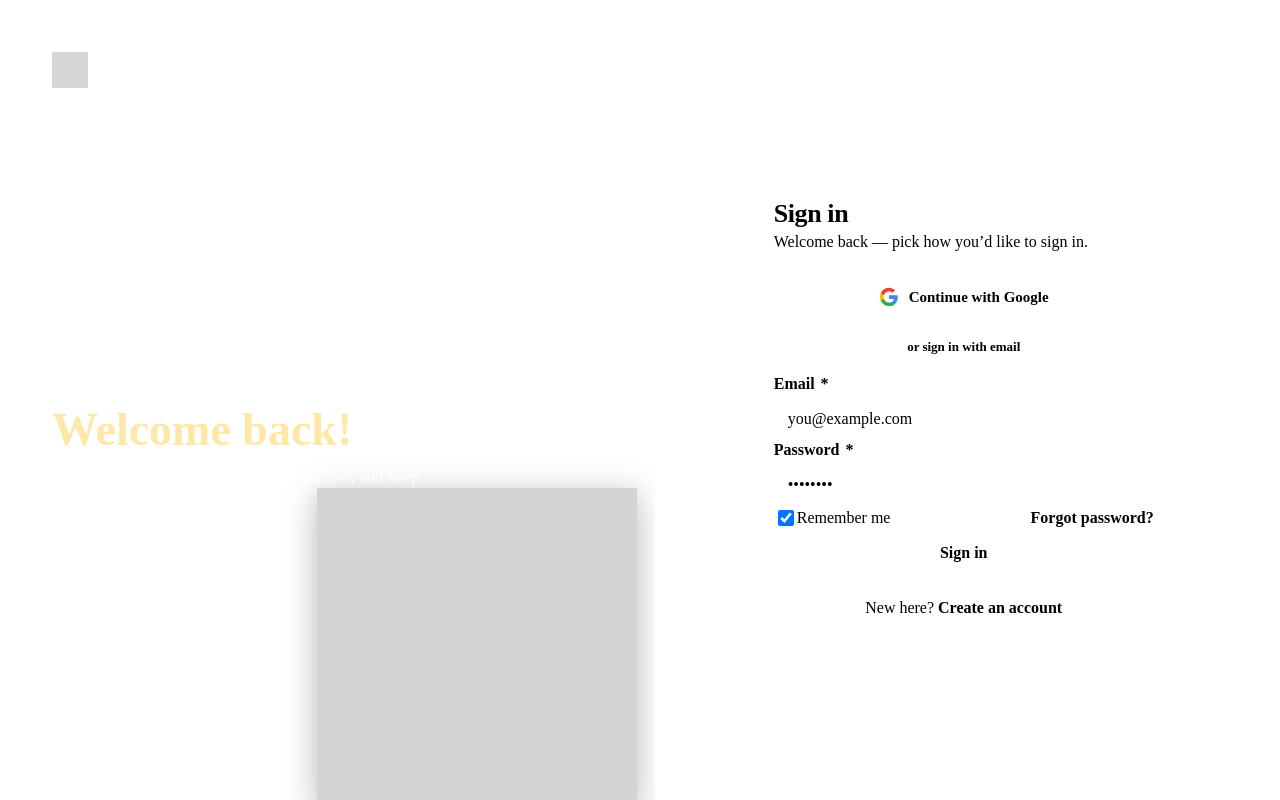
Test: LoginComponent › refuses a password reset without a valid email and prompts for one
Click the link with class "login__reset-link" showing "Forgot password?": (1092, 518) [1031,509,1154,527]
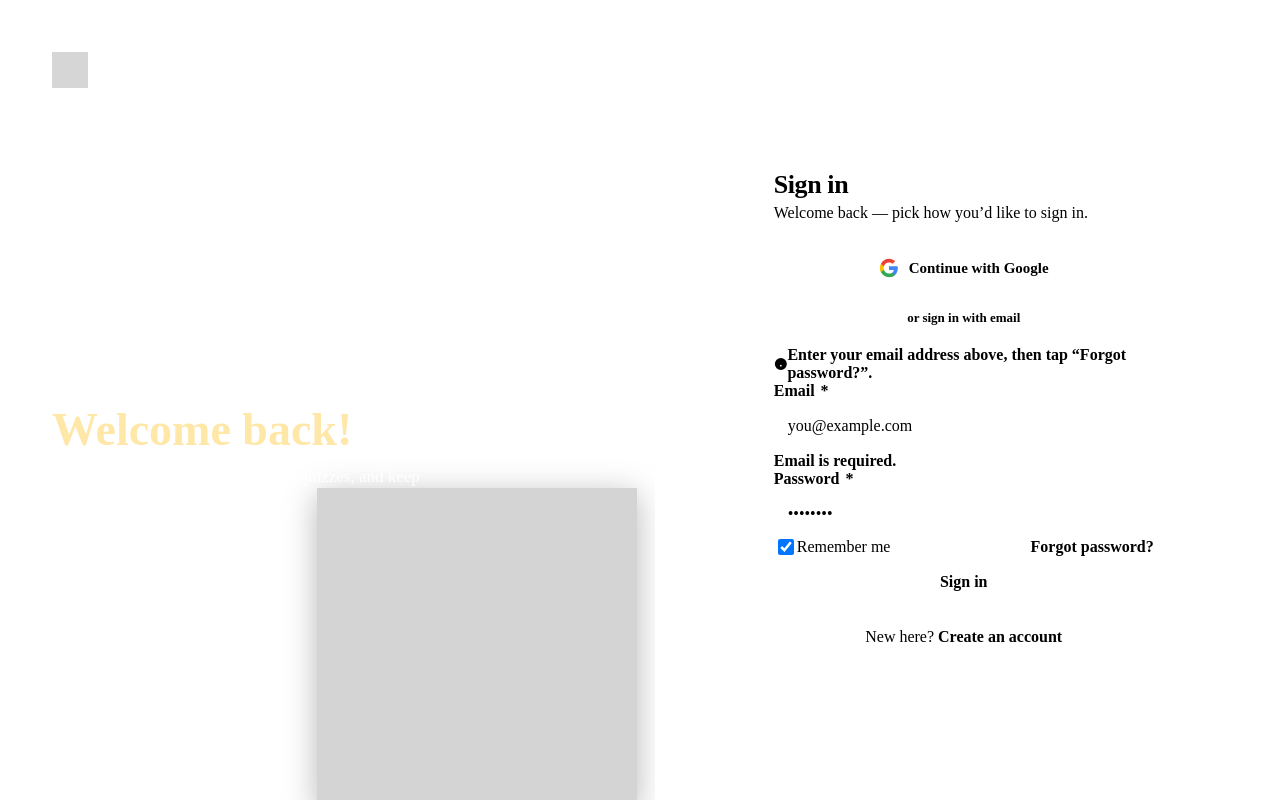
Result: the message "Enter your email address above, then tap “Forgot password?”." is shown at [774,346,1154,382]
